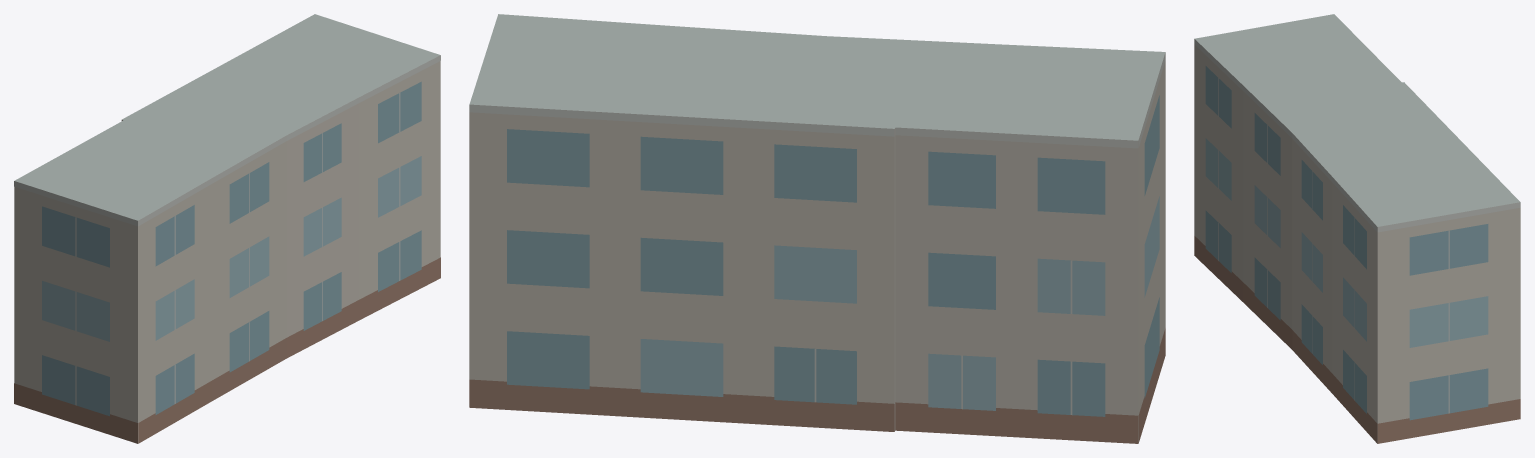
The model's file is survey-upis-32500322.glb.
The picture shows the model from 3 angles, left to right: view 1: azimuth 30°, elevation 25°; view 2: azimuth 150°, elevation 25°; view 3: azimuth 270°, elevation 25°; orthographic projection. The views are drawn at different scales.
Visible parts, largest first — view 1: survey-upis-32500322.tmp; view 2: survey-upis-32500322.tmp; view 3: survey-upis-32500322.tmp.
Part boxes in pixels (left/top/right/bottom): survey-upis-32500322.tmp: left=14, top=14, right=440, bottom=443; survey-upis-32500322.tmp: left=469, top=14, right=1165, bottom=443; survey-upis-32500322.tmp: left=1194, top=14, right=1520, bottom=443.
Bounding box in the file's own units: 20.15 × 9.56 × 13.04.
